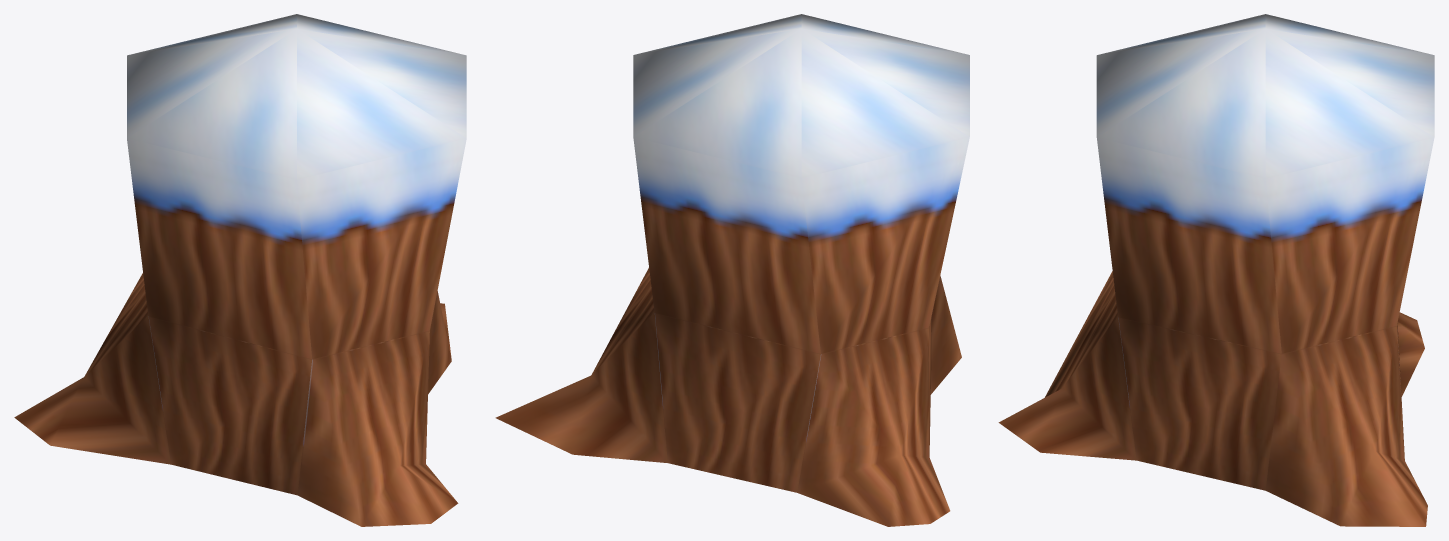
Rendered from Object_Stump.FBX.
3 renders of one model, left to right at view 1: azimuth 30°, elevation 25°; view 2: azimuth 150°, elevation 25°; view 3: azimuth 270°, elevation 25°, orthographic.
Parts seen in each view (by area): view 1: stump; view 2: stump; view 3: stump.
Part boxes in pixels (x1,y1,x2,y2): stump: [14, 14, 466, 526]; stump: [495, 14, 969, 526]; stump: [998, 14, 1434, 526].
Size of the model in its own units: 41.34 by 36.93 by 36.1.
